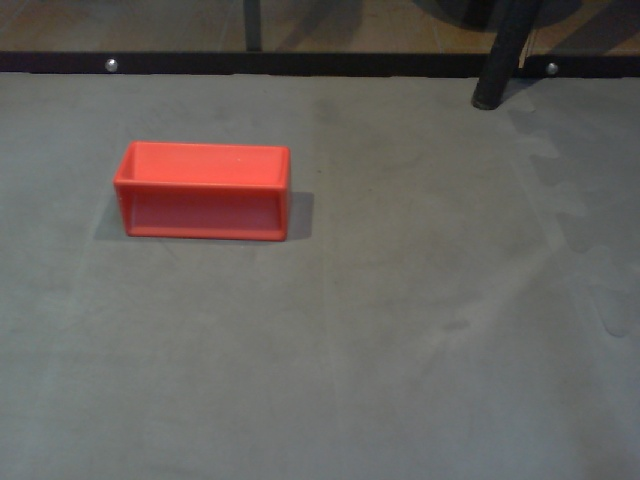RedSample: (111, 138, 293, 242)
